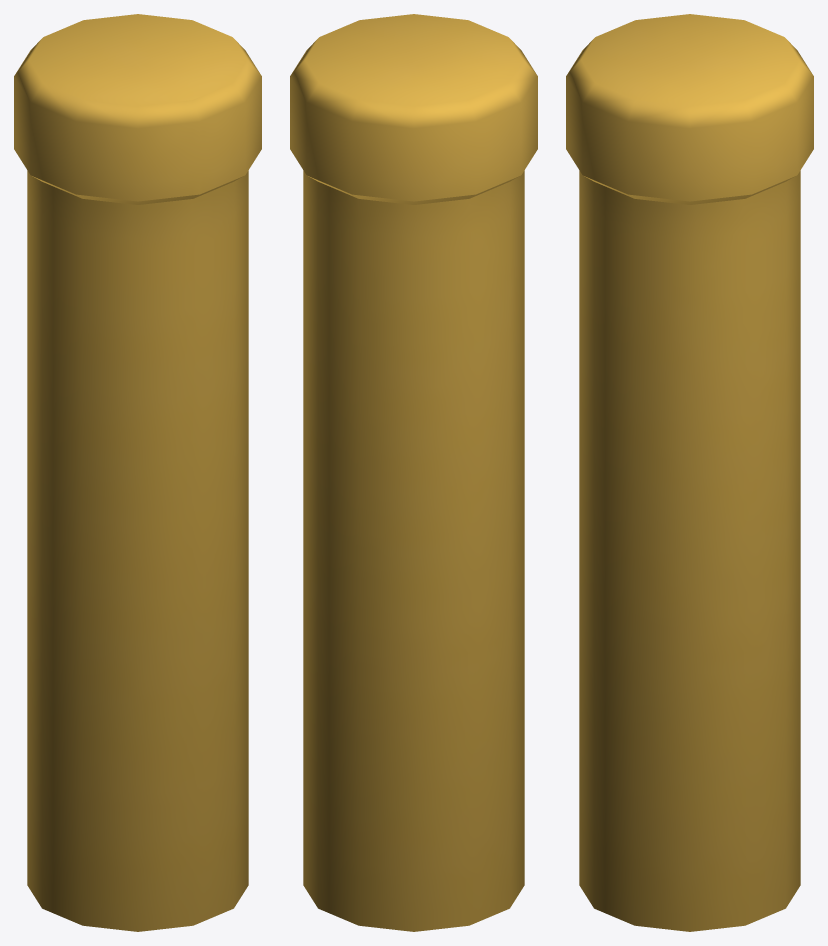
Rendered from Pfb_Fence.fbx.
The picture shows the model from 3 angles, left to right: view 1: azimuth 30°, elevation 25°; view 2: azimuth 150°, elevation 25°; view 3: azimuth 270°, elevation 25°; orthographic projection.
Parts seen in each view (by area): view 1: MAT_Fence02 3; view 2: MAT_Fence02 3; view 3: MAT_Fence02 3.
Boxes of the visible parts, x1,y1,x2,y2 form: MAT_Fence02 3: (14, 14, 261, 931); MAT_Fence02 3: (290, 14, 537, 931); MAT_Fence02 3: (566, 14, 813, 931).
Bounding box in the file's own units: 0.2032 × 0.7463 × 0.2032.
1 material, 1 textured.
